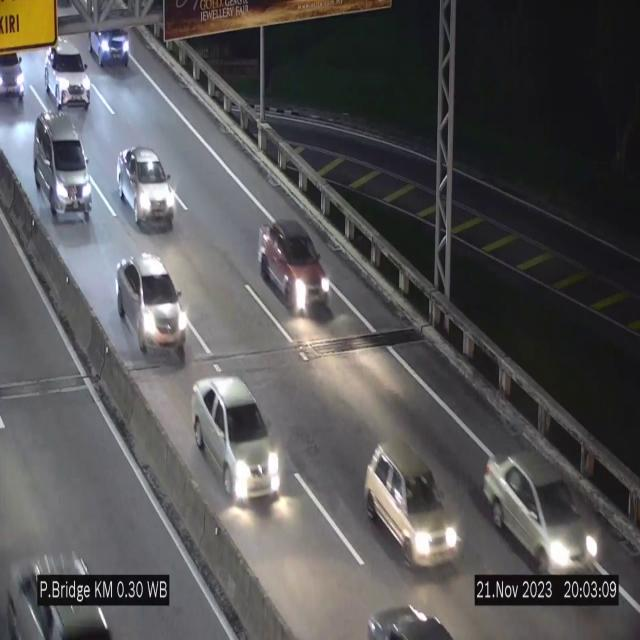Car: (481, 445, 603, 584), (361, 432, 465, 579), (0, 520, 114, 640), (192, 377, 280, 499), (116, 254, 188, 363), (30, 114, 101, 221), (258, 220, 334, 316), (117, 148, 175, 230), (44, 46, 94, 115), (90, 10, 131, 70), (0, 35, 28, 101)
